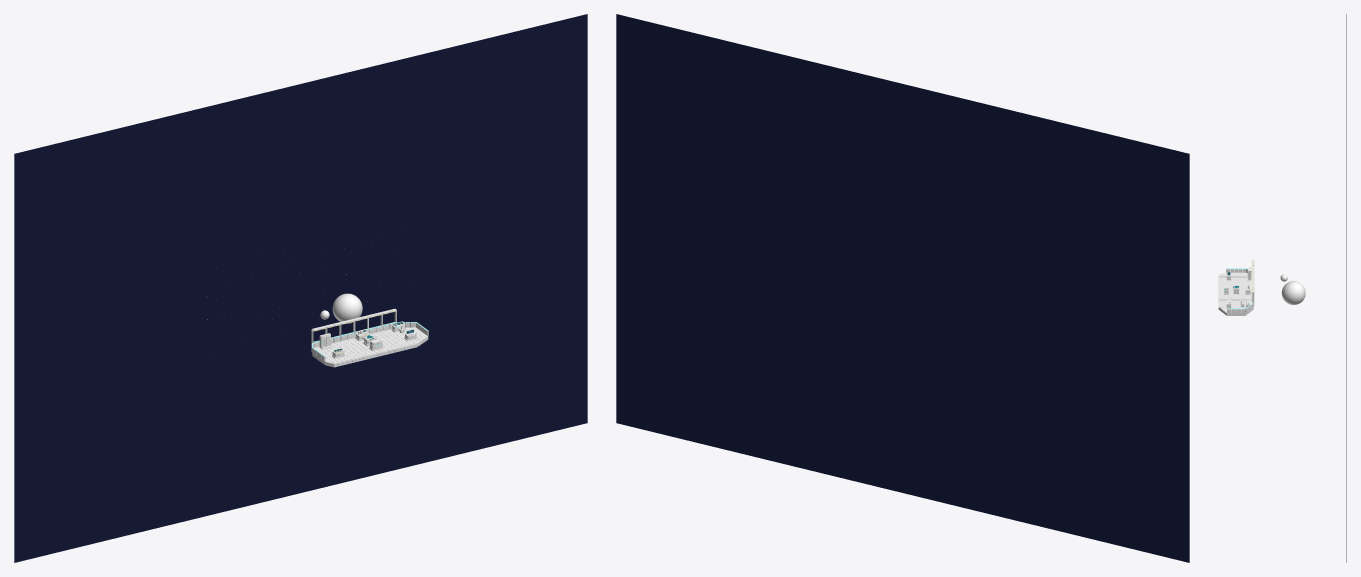
The model's file is specter-x8-interior.glb.
3 renders of one model, left to right at view 1: azimuth 30°, elevation 25°; view 2: azimuth 150°, elevation 25°; view 3: azimuth 270°, elevation 25°, orthographic. The views are drawn at different scales.
Parts seen in each view (by area): view 1: Fundo da vigia, Planeta na vigia; view 2: Fundo da vigia; view 3: Fundo da vigia, Planeta na vigia, Borda estrutural do convés.
Part boxes in pixels (x1,y1,x2,y2): Fundo da vigia: [14, 14, 587, 562]; Planeta na vigia: [332, 293, 362, 323]; Fundo da vigia: [616, 14, 1189, 562]; Fundo da vigia: [1346, 14, 1346, 562]; Planeta na vigia: [1281, 281, 1305, 304]; Borda estrutural do convés: [1218, 272, 1252, 313].
Bounding box in the file's own units: 110 × 75 × 26.75.
